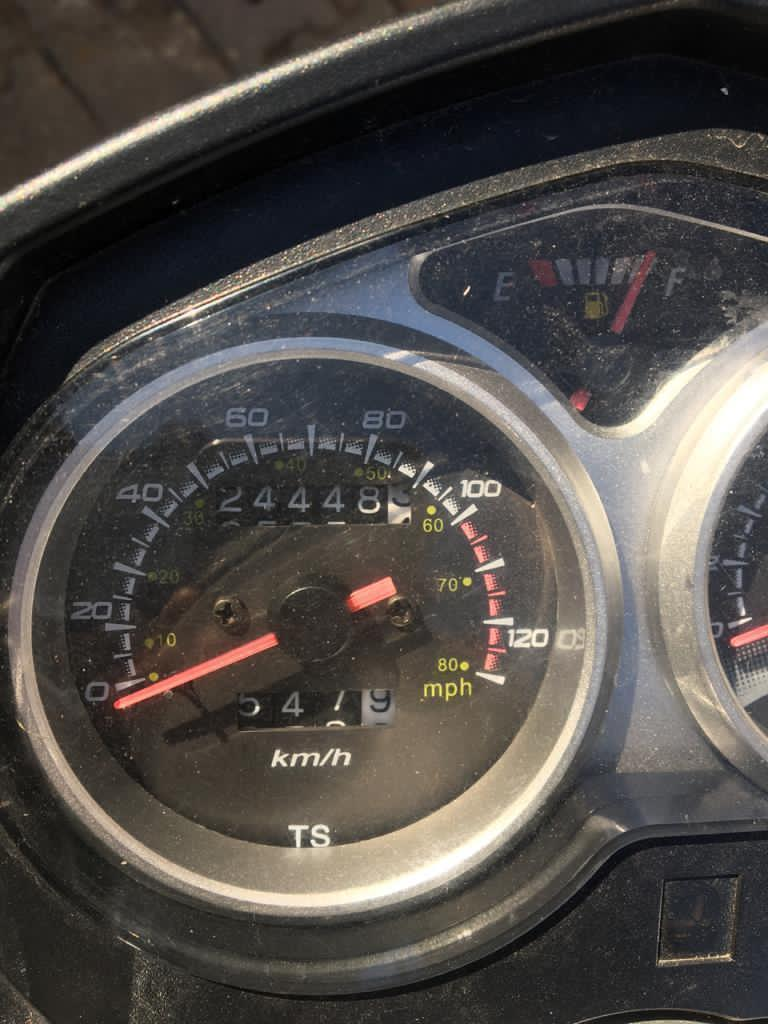2: (217, 481, 243, 513)
3: (391, 480, 412, 508)
4: (320, 482, 346, 512), (286, 484, 311, 513), (251, 484, 276, 512)
8: (357, 484, 381, 515)
odometer: (212, 480, 413, 530)
